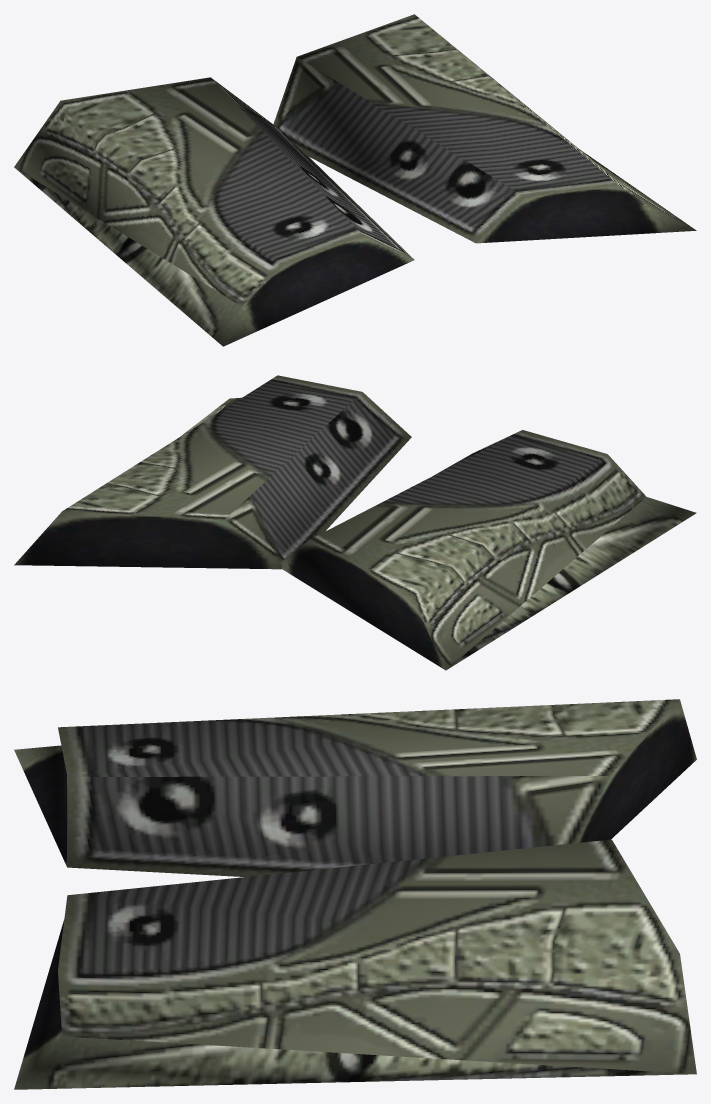
Rendered from LegPads6__FDC.glb.
The picture shows the model from 3 angles, top to bottom: view 1: azimuth 30°, elevation 25°; view 2: azimuth 150°, elevation 25°; view 3: azimuth 270°, elevation 25°; orthographic projection. The views are drawn at different scales.
Visible parts, largest first — view 1: LegPads6; view 2: LegPads6; view 3: LegPads6.
Part boxes in pixels (box(x1,y1,x2,y2)): LegPads6: box(14, 14, 696, 346); LegPads6: box(14, 375, 696, 670); LegPads6: box(14, 699, 696, 1089).
Size of the model in its own units: 22.69 by 3.43 by 19.23.
1 material, 1 textured.
